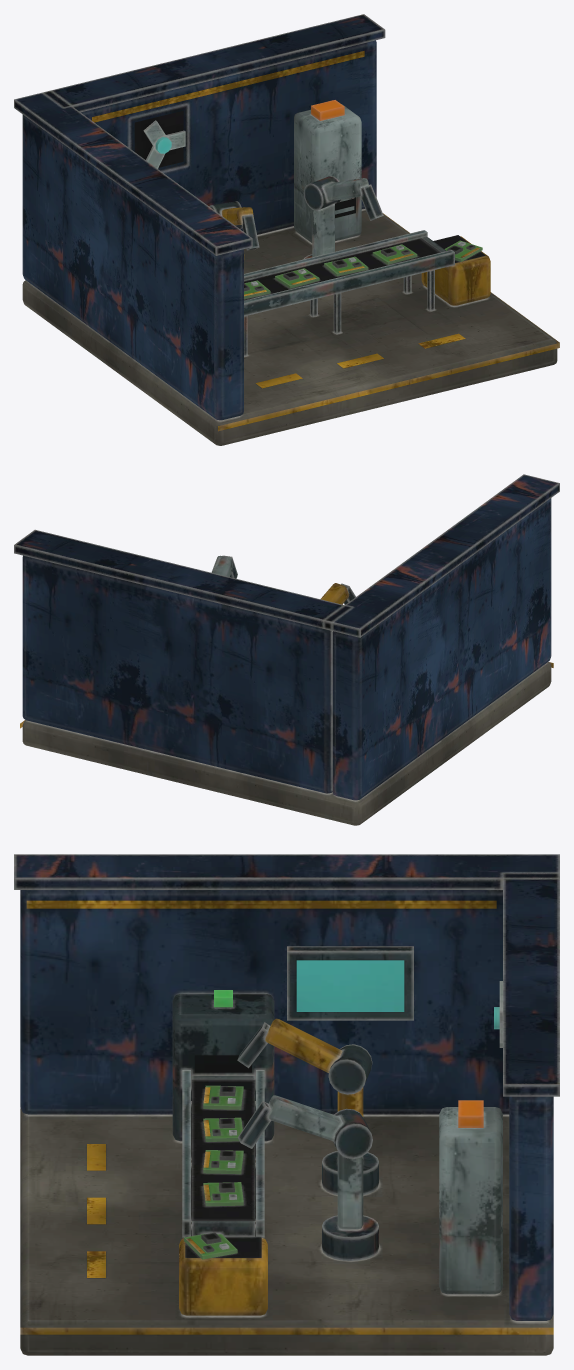
Rendered from electronics_factory.glb.
The picture shows the model from 3 angles, top to bottom: view 1: azimuth 30°, elevation 25°; view 2: azimuth 150°, elevation 25°; view 3: azimuth 270°, elevation 25°; orthographic projection. The views are drawn at different scales.
Parts seen in each view (by area): view 1: te_electronics_factory, move_fan_1; view 2: te_electronics_factory; view 3: te_electronics_factory.
Boxes of the visible parts, bbox=[...] form: te_electronics_factory: bbox=[14, 14, 559, 445]; move_fan_1: bbox=[143, 120, 185, 168]; te_electronics_factory: bbox=[14, 474, 559, 825]; te_electronics_factory: bbox=[14, 854, 559, 1355].
Bounding box in the file's own units: 0.86 × 0.48 × 0.86.
1 material, 1 textured.
